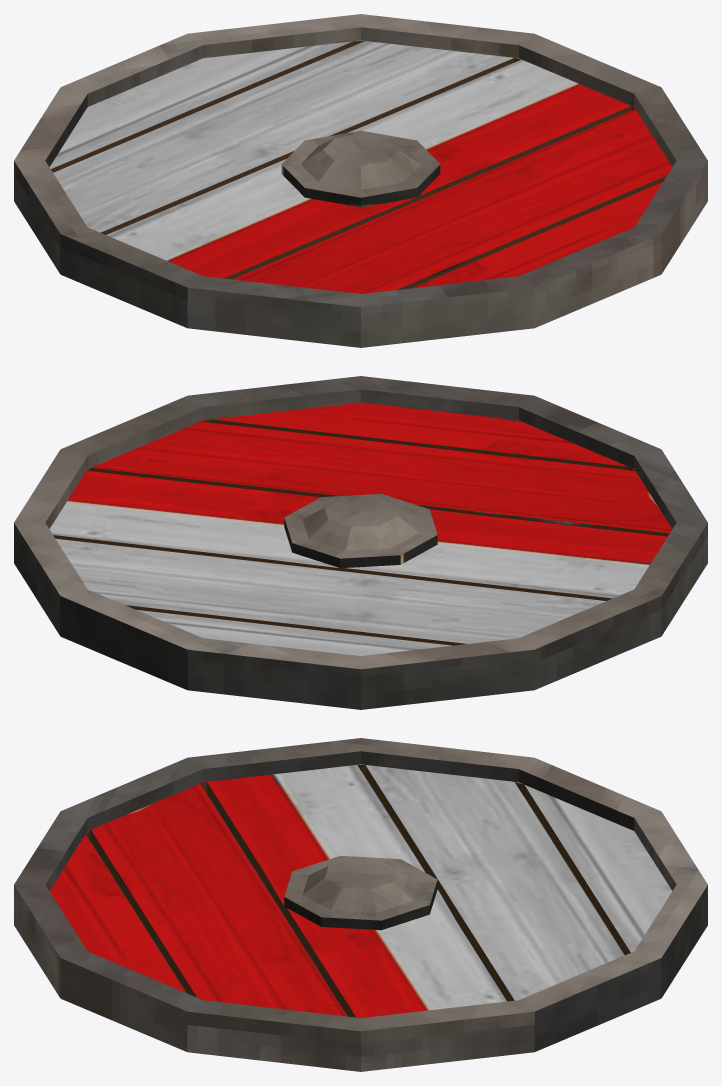
The model's file is Shield.fbx.
3 renders of one model, top to bottom at view 1: azimuth 30°, elevation 25°; view 2: azimuth 150°, elevation 25°; view 3: azimuth 270°, elevation 25°, orthographic.
Visible parts, largest first — view 1: Circle; view 2: Circle; view 3: Circle.
Part boxes in pixels (<box>): Circle: <box>14,14,707,347</box>; Circle: <box>14,376,707,709</box>; Circle: <box>14,738,707,1071</box>.
Size of the model in its own units: 200 by 16.37 by 200.
